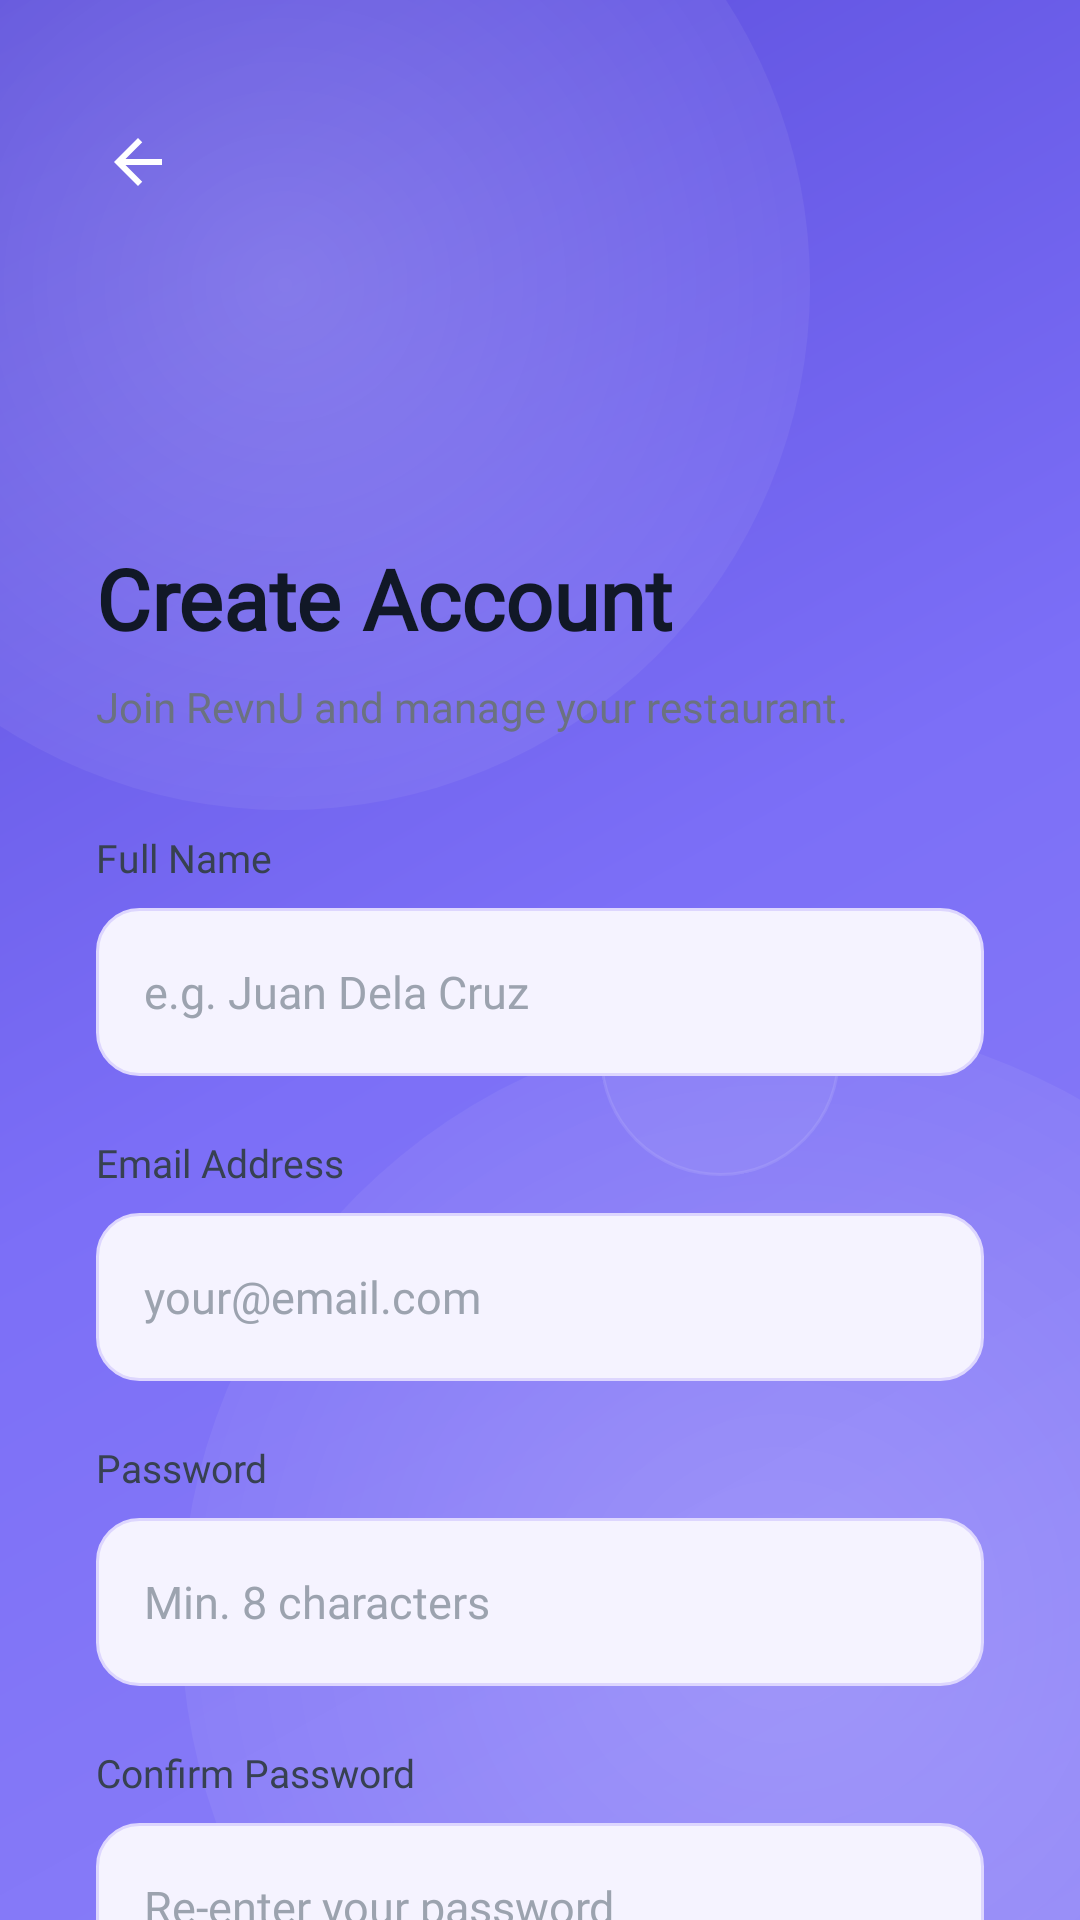

Where to tap for icons on this 1080px×1920px app screen, as (x=x, y=y):
Back: (x=138, y=162)
